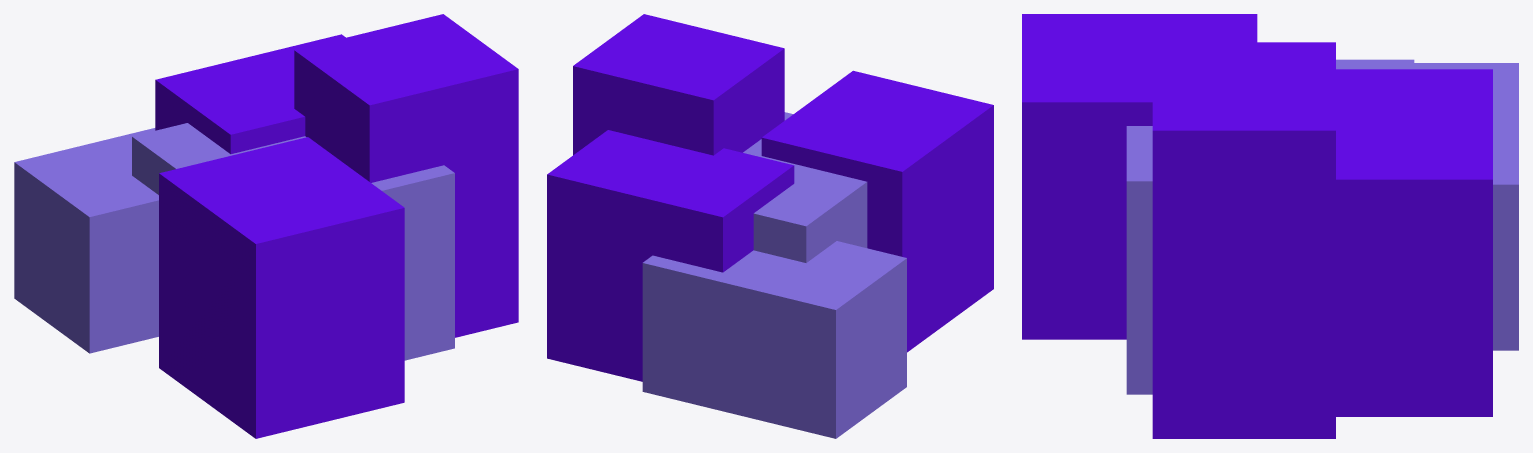
The model's file is Rock1.dae.
The picture shows the model from 3 angles, left to right: view 1: azimuth 30°, elevation 25°; view 2: azimuth 150°, elevation 25°; view 3: azimuth 270°, elevation 25°; orthographic projection. The views are drawn at different scales.
Visible parts, largest first — view 1: Rock1; view 2: Rock1; view 3: Rock1.
Part boxes in pixels (x1,y1,x2,y2): Rock1: (14, 14, 518, 438); Rock1: (547, 14, 993, 438); Rock1: (1022, 14, 1518, 438).
Size of the model in its own units: 1.9 by 1.3 by 1.9.
Materials: 1 (1 with a texture image).
